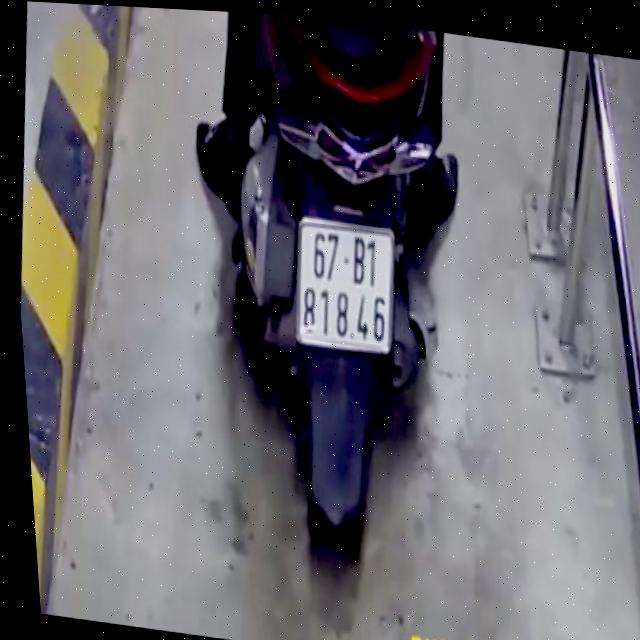motorcycle: (182, 9, 498, 582)
plate: (285, 211, 405, 359)
